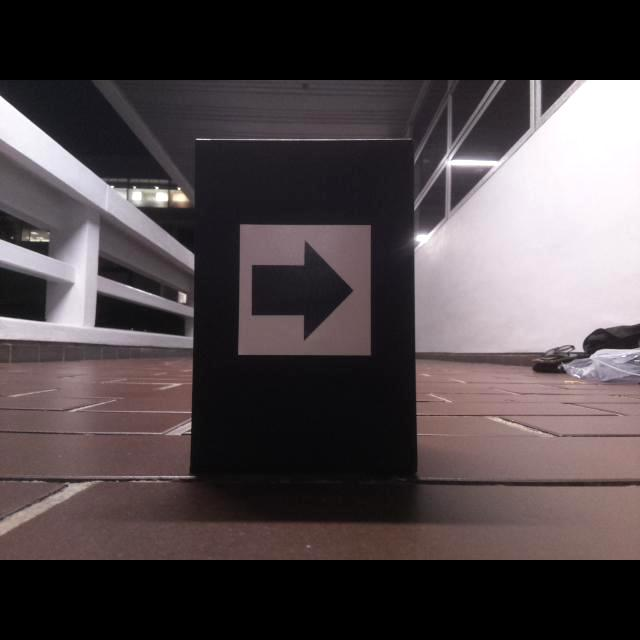RIGHT: (252, 240, 352, 342)
